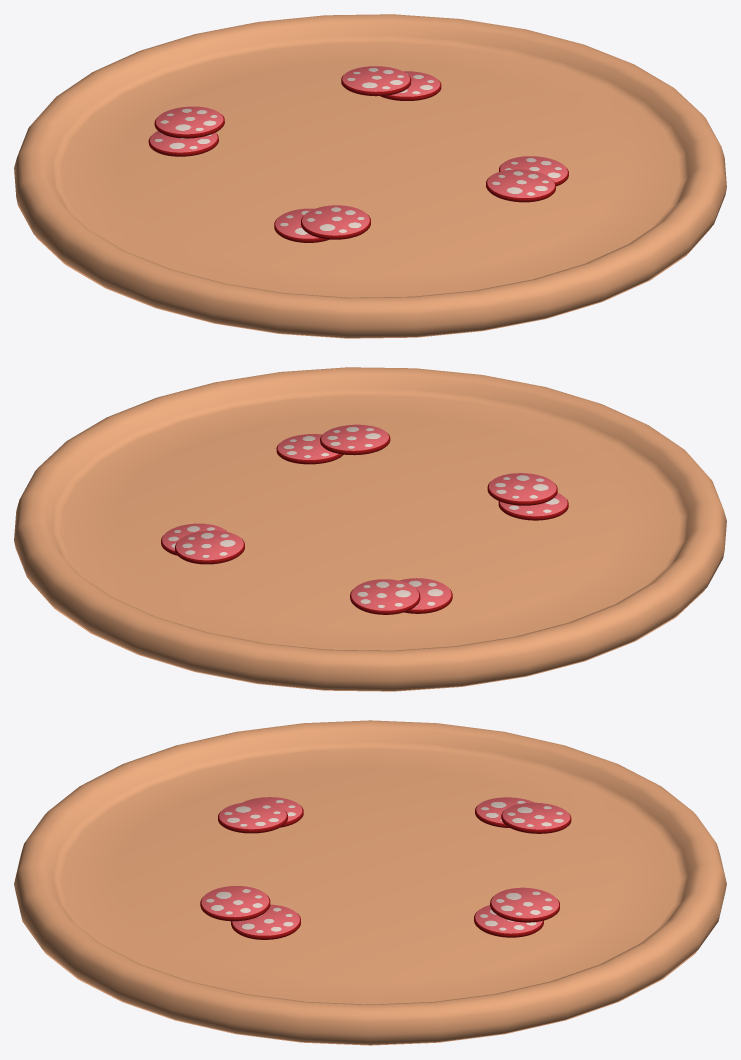
Rendered from sausagebakeddough.glb.
3 views of the same model, one above another, from view 1: azimuth 30°, elevation 25°; view 2: azimuth 150°, elevation 25°; view 3: azimuth 270°, elevation 25° (orthographic).
Visible parts, largest first — view 1: Dough.001; view 2: Dough.001; view 3: Dough.001.
Part boxes in pixels (x1,y1,x2,y2): Dough.001: (14,14,726,338); Dough.001: (14,367,726,691); Dough.001: (14,720,726,1045).
Size of the model in its own units: 2.53 by 0.189 by 2.53.
Materials: 10 (8 with a texture image).
